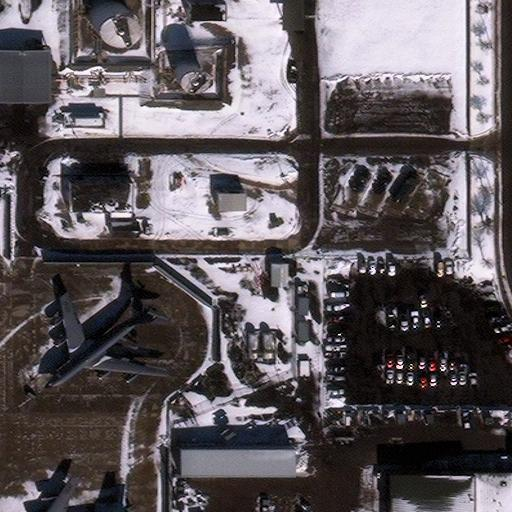Military Transport: (47, 297, 166, 385), (30, 479, 113, 512)
